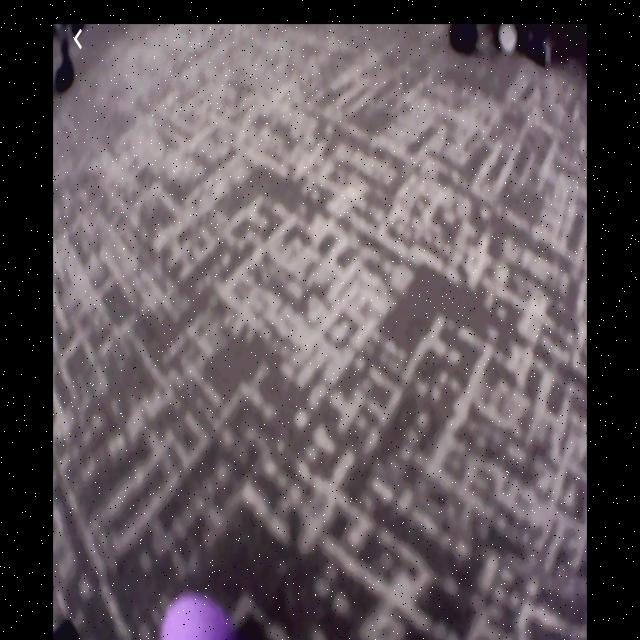ball: (162, 591, 233, 640)
